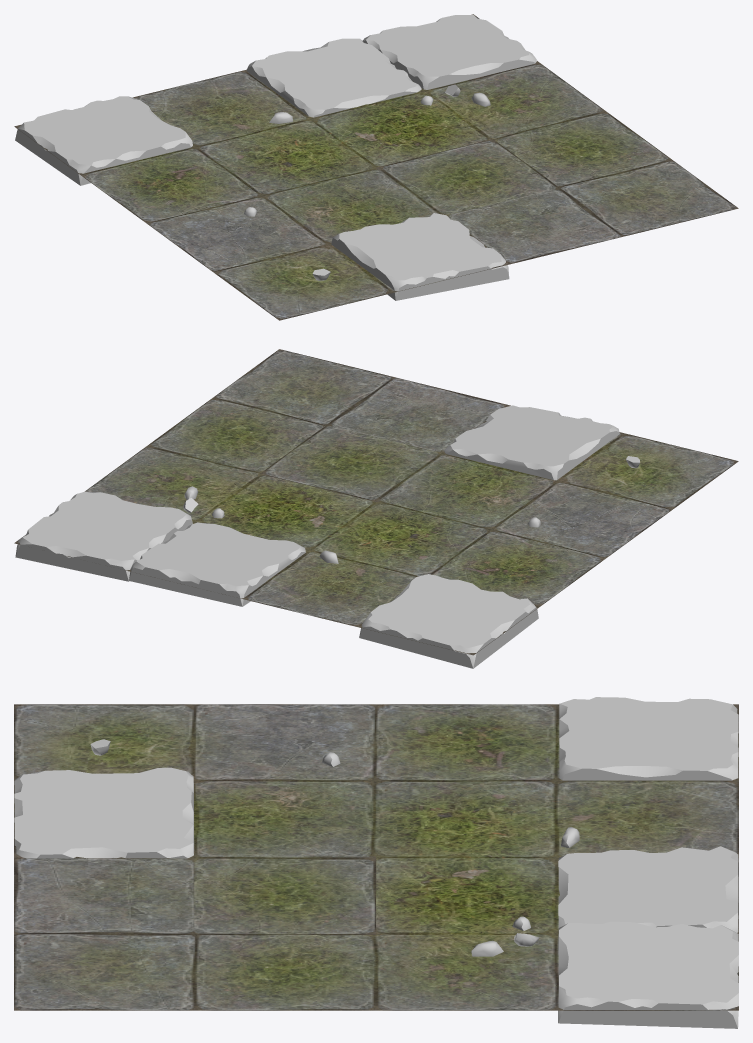
The model's file is Floor_Lvl3_14.fbx.
The picture shows the model from 3 angles, top to bottom: view 1: azimuth 30°, elevation 25°; view 2: azimuth 150°, elevation 25°; view 3: azimuth 270°, elevation 25°; orthographic projection. The views are drawn at different scales.
Parts seen in each view (by area): view 1: StoneFloor_Details.003; view 2: StoneFloor_Details.003; view 3: StoneFloor_Details.003.
Boxes of the visible parts, left/top/right/bottom form: StoneFloor_Details.003: left=14, top=14, right=738, bottom=320; StoneFloor_Details.003: left=14, top=349, right=738, bottom=668; StoneFloor_Details.003: left=14, top=697, right=738, bottom=1028.
Bounding box in the file's own units: 382 × 20.6 × 382.
